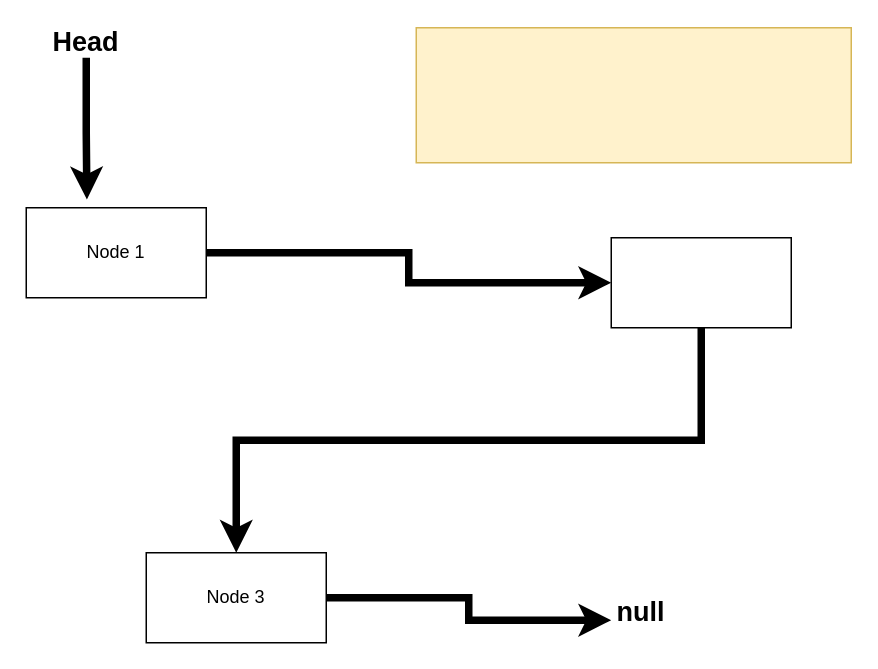
Image size: 878x669. Some labels were removed from this diagram. The shapes that lost their labels are listed below. From the top down, each one's box as (x1, y1, x2, y2) in pixels, then its label:
(415, 26, 851, 163): Linked List Diagram
(610, 236, 791, 328): Node 2
